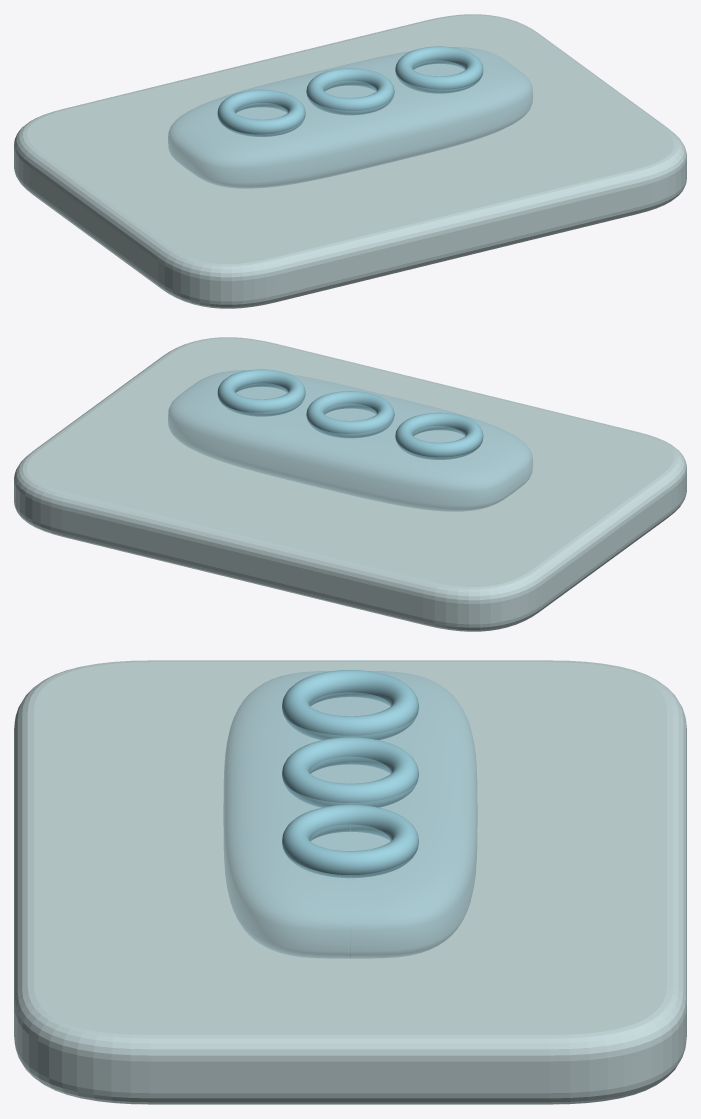
The picture shows the model from 3 angles, top to bottom: view 1: azimuth 30°, elevation 25°; view 2: azimuth 150°, elevation 25°; view 3: azimuth 270°, elevation 25°; orthographic projection. The views are drawn at different scales.
Parts seen in each view (by area): view 1: environment-water, floating-dock, socket-1, socket-2, socket-0; view 2: environment-water, floating-dock, socket-1, socket-2, socket-0; view 3: environment-water, floating-dock, socket-2, socket-0, socket-1.
Part boxes in pixels (x1=…): environment-water: x1=14, y1=14, x2=686, y2=308; floating-dock: x1=168, y1=47, x2=532, y2=188; socket-1: x1=306, y1=68, x2=394, y2=115; socket-2: x1=395, y1=46, x2=483, y2=93; socket-0: x1=217, y1=89, x2=305, y2=136; environment-water: x1=14, y1=337, x2=686, y2=631; floating-dock: x1=168, y1=370, x2=532, y2=511; socket-1: x1=306, y1=391, x2=394, y2=438; socket-2: x1=217, y1=369, x2=305, y2=416; socket-0: x1=395, y1=412, x2=483, y2=459; environment-water: x1=14, y1=660, x2=686, y2=1104; floating-dock: x1=223, y1=671, x2=477, y2=958; socket-2: x1=282, y1=804, x2=418, y2=878; socket-0: x1=282, y1=670, x2=418, y2=740; socket-1: x1=282, y1=737, x2=418, y2=807.
Size of the model in its own units: 3.7 by 0.685 by 2.7.
